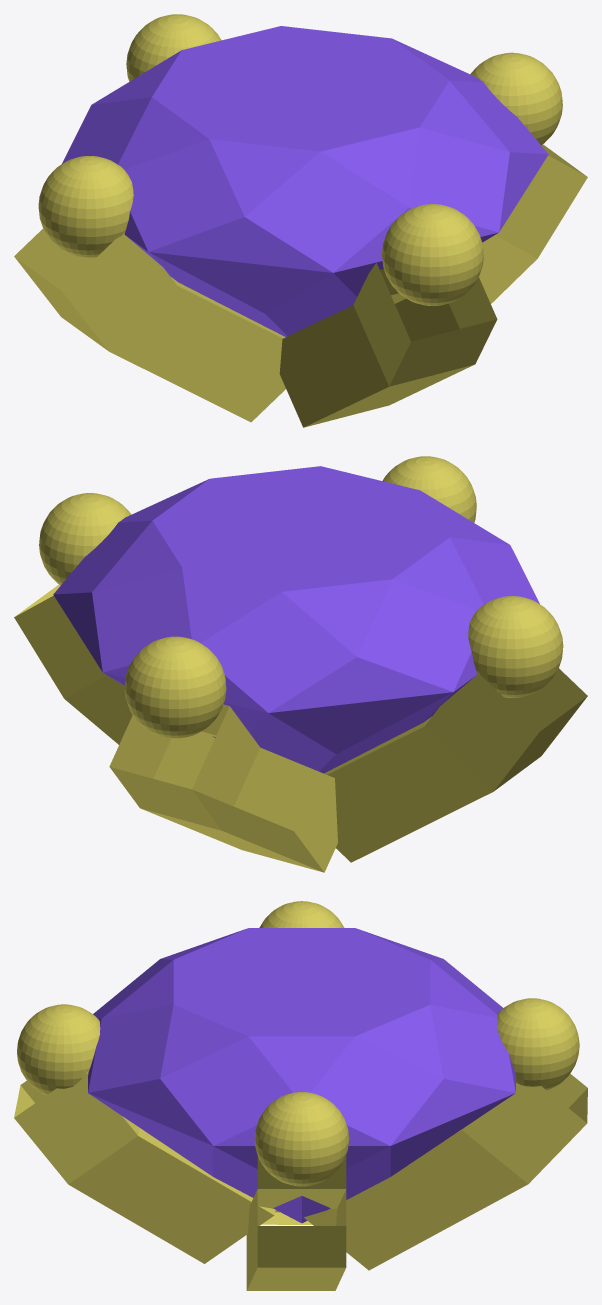
Rendered from gem2.glb.
3 renders of one model, top to bottom at view 1: azimuth 30°, elevation 25°; view 2: azimuth 150°, elevation 25°; view 3: azimuth 270°, elevation 25°, orthographic. The views are drawn at different scales.
Visible parts, largest first — view 1: Gem, Sphere.002; view 2: Gem, Sphere.002; view 3: Gem, Sphere.002.
Part boxes in pixels (box(x1,y1,x2,y2)): Gem: box(62, 26, 548, 336); Sphere.002: box(14, 14, 587, 427); Gem: box(53, 466, 539, 773); Sphere.002: box(14, 456, 587, 872); Gem: box(88, 928, 515, 1223); Sphere.002: box(14, 901, 587, 1290).
Size of the model in its own units: 2.43 by 1.33 by 2.48.
2 materials, 1 textured.
